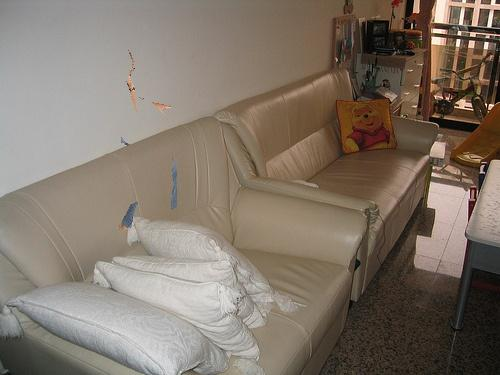tampered: (120, 51, 177, 230)
